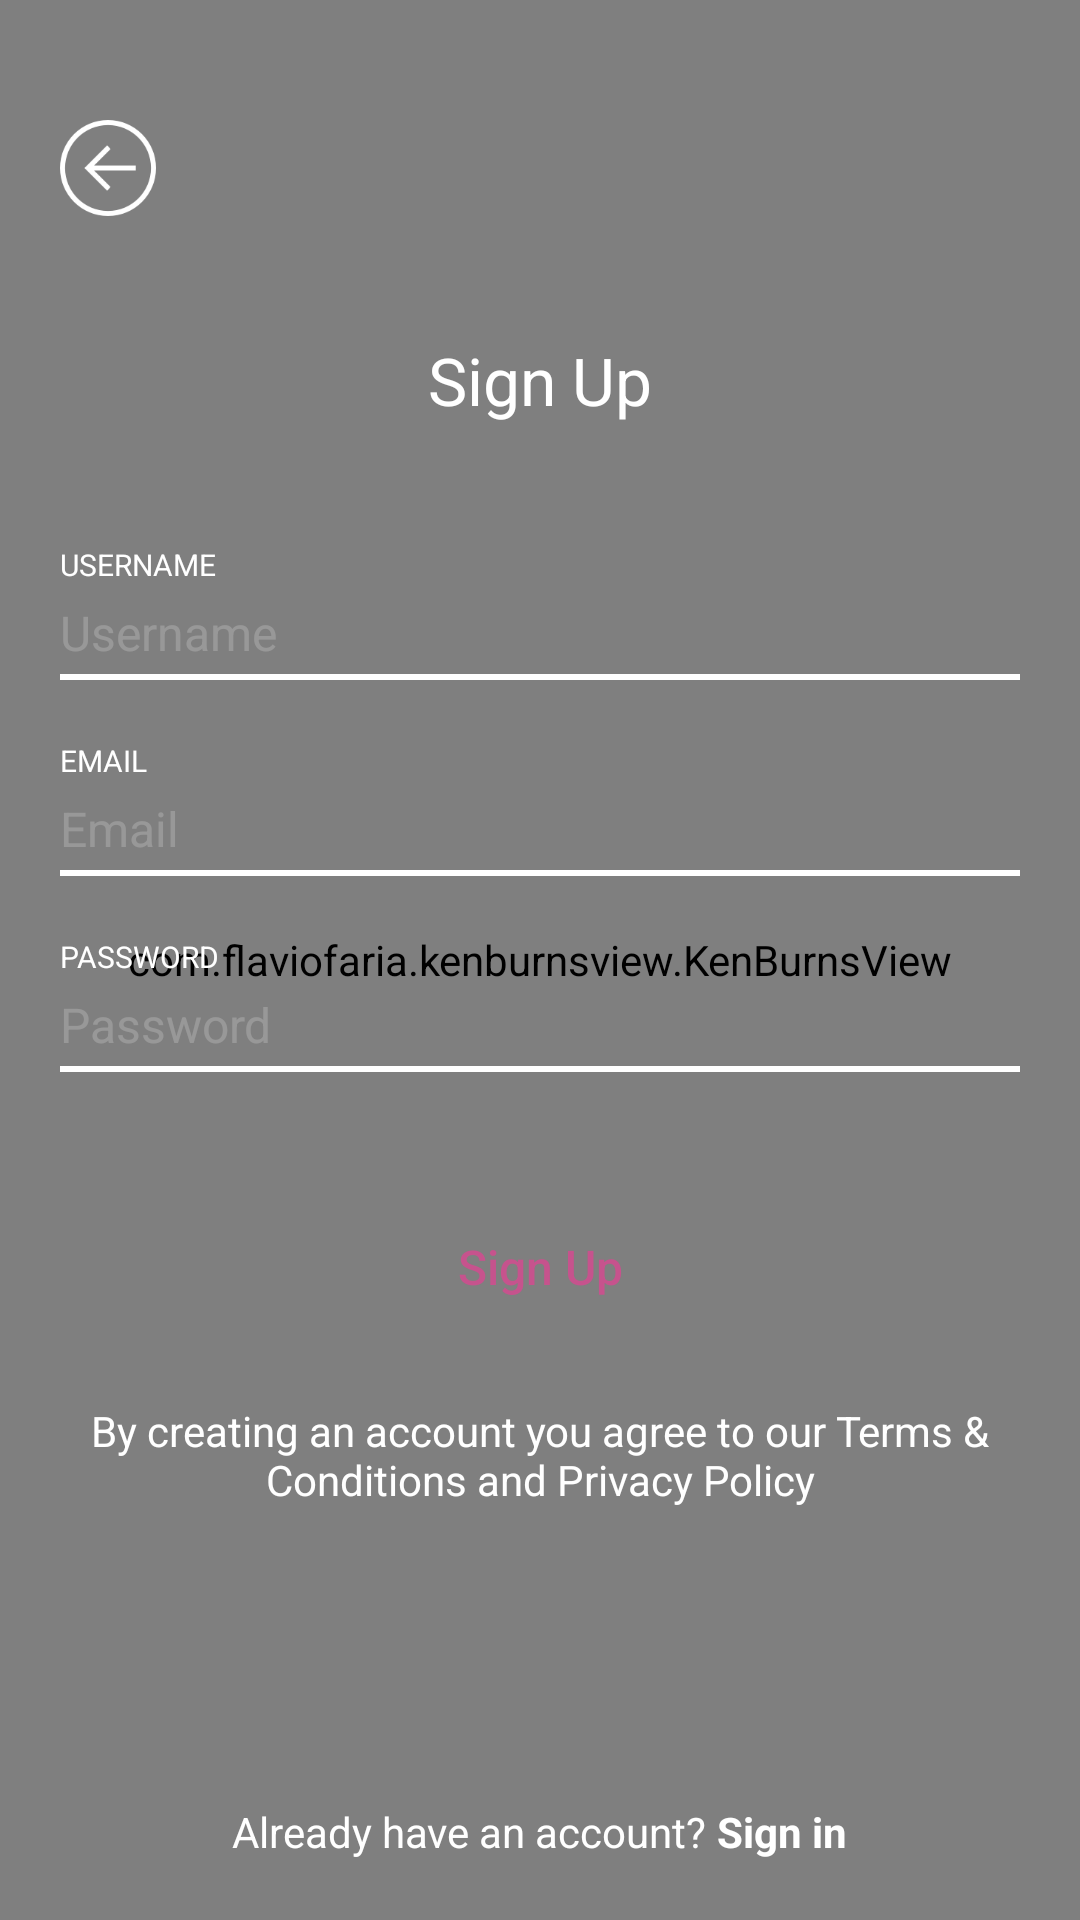

Icon click points for this 1080w x 1920h phone screenshot, format (x=x, y=y):
back: (x=108, y=168)
